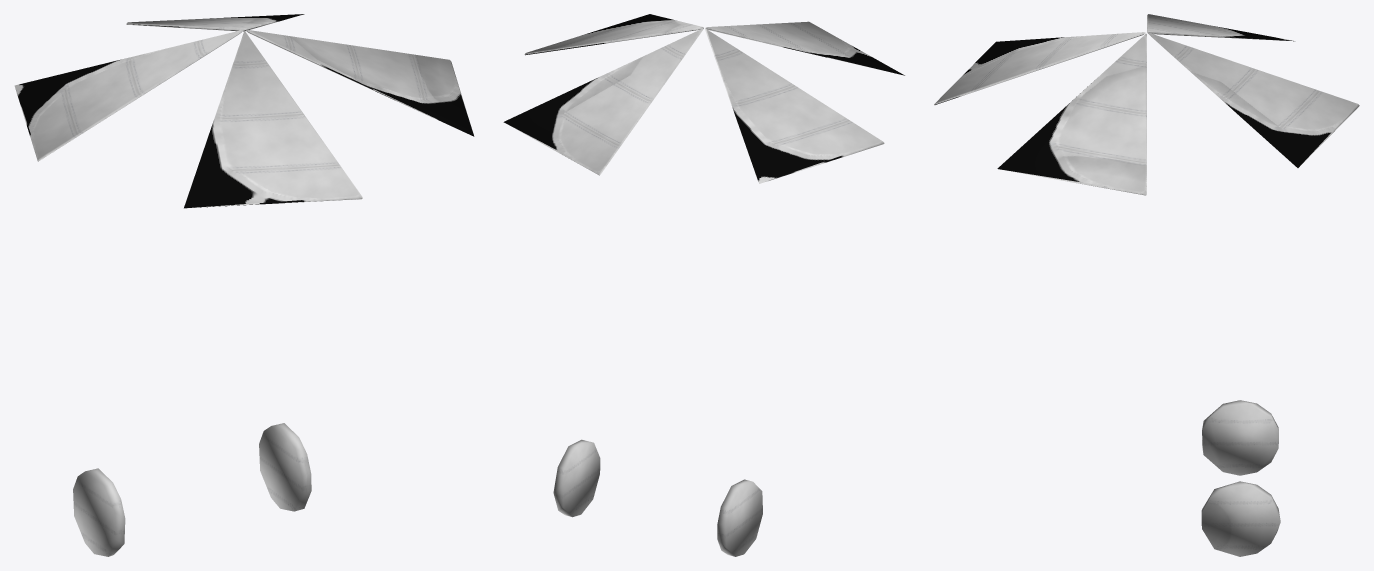
File: CarritoPanchos_C2.fbx
3 renders of one model, left to right at view 1: azimuth 30°, elevation 25°; view 2: azimuth 150°, elevation 25°; view 3: azimuth 270°, elevation 25°, orthographic. The views are drawn at different scales.
Parts seen in each view (by area): view 1: Civ_CarritoPanchos_C2; view 2: Civ_CarritoPanchos_C2; view 3: Civ_CarritoPanchos_C2.
Boxes of the visible parts, box(x1,y1,x2,y2) form: Civ_CarritoPanchos_C2: box(14, 14, 474, 556); Civ_CarritoPanchos_C2: box(503, 14, 904, 556); Civ_CarritoPanchos_C2: box(934, 14, 1359, 556).
Bounding box in the file's own units: 5.7 × 7.12 × 5.7.
